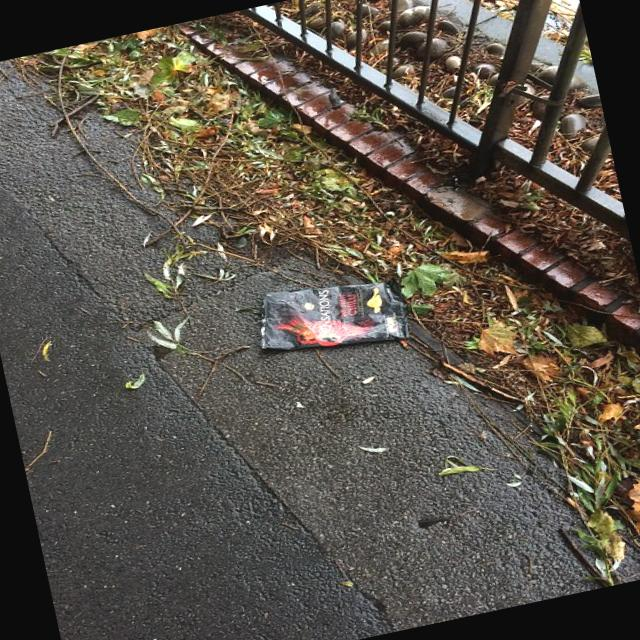Trash: (244, 257, 419, 372)
